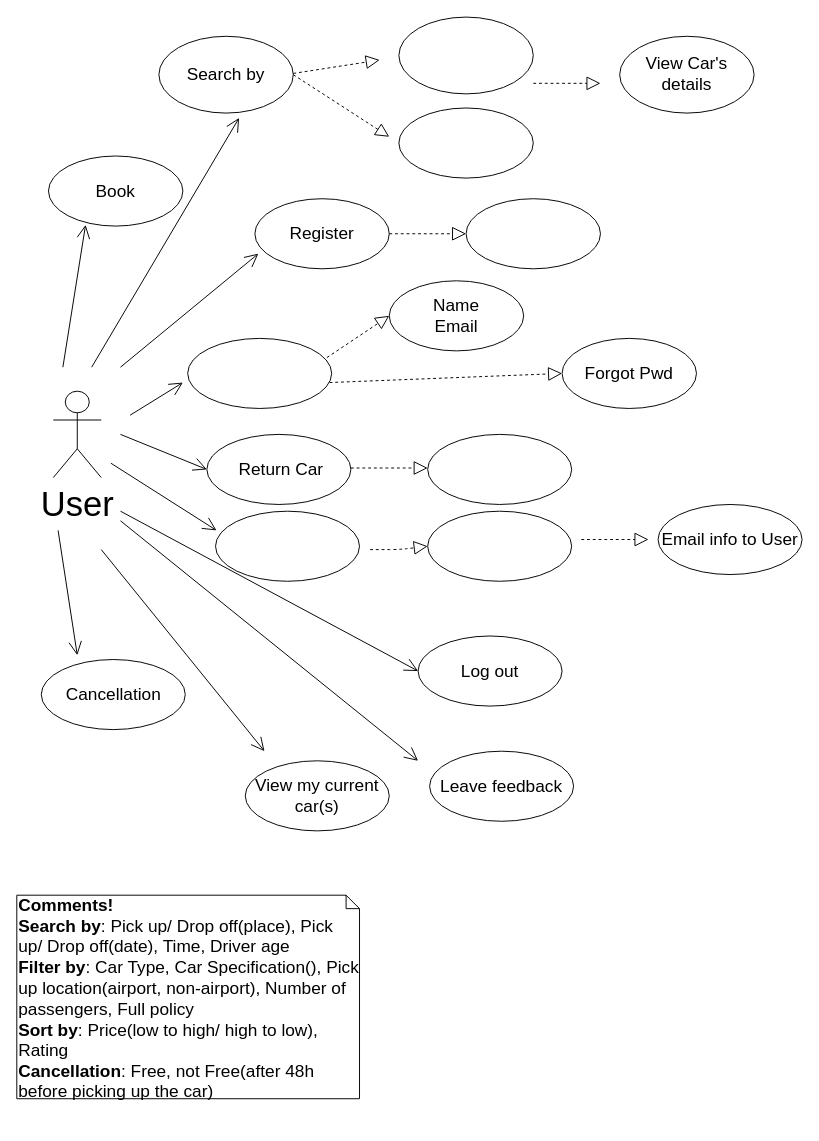
This 819x1141 diagram has some shape labels left out. The shapes that lost their labels are listed below. From the top down, each one's centre as x and y in pixels, then its label:
At (x=465, y=55): "Filter by".
At (x=465, y=142): "Sort by".
At (x=532, y=233): "Driver details".
At (x=259, y=372): "Log in".
At (x=499, y=468): "Damage".
At (x=287, y=545): "Payment details".
At (x=499, y=545): "Generate bill".
